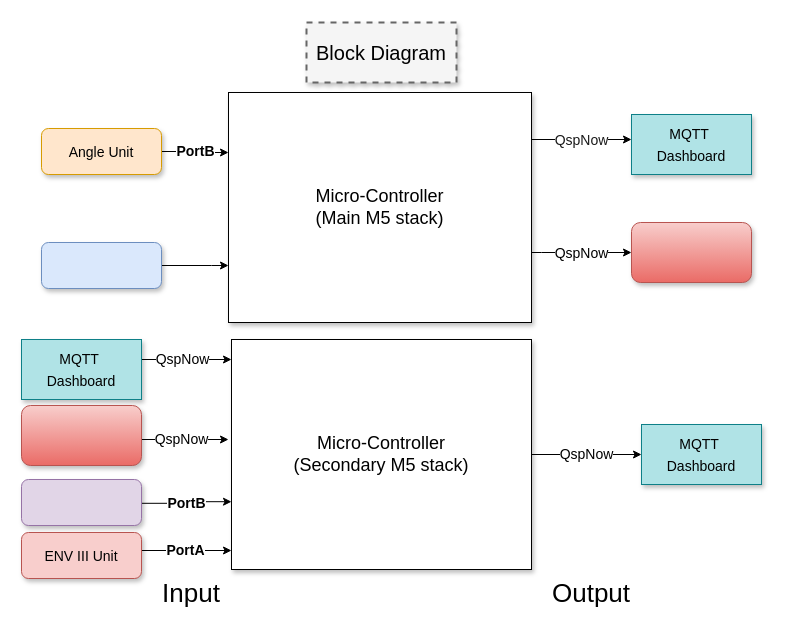
Some shapes in this 785 by 634 pixel diagram are drawn without their labels. Each missing label, with the centre of its shape:
"3 Buttons" belongs at point (102, 267).
"Light Unit" belongs at point (82, 503).
"Main M5 stack" belongs at point (82, 436).
"Secondary M5 stack" belongs at point (692, 254).
